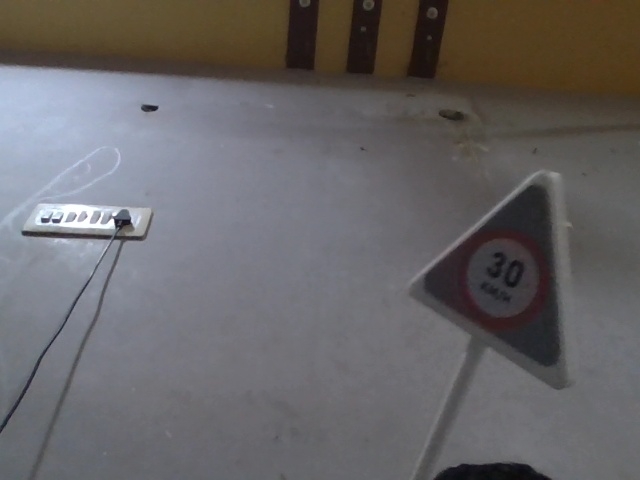speedlimit: (421, 155, 576, 379)
